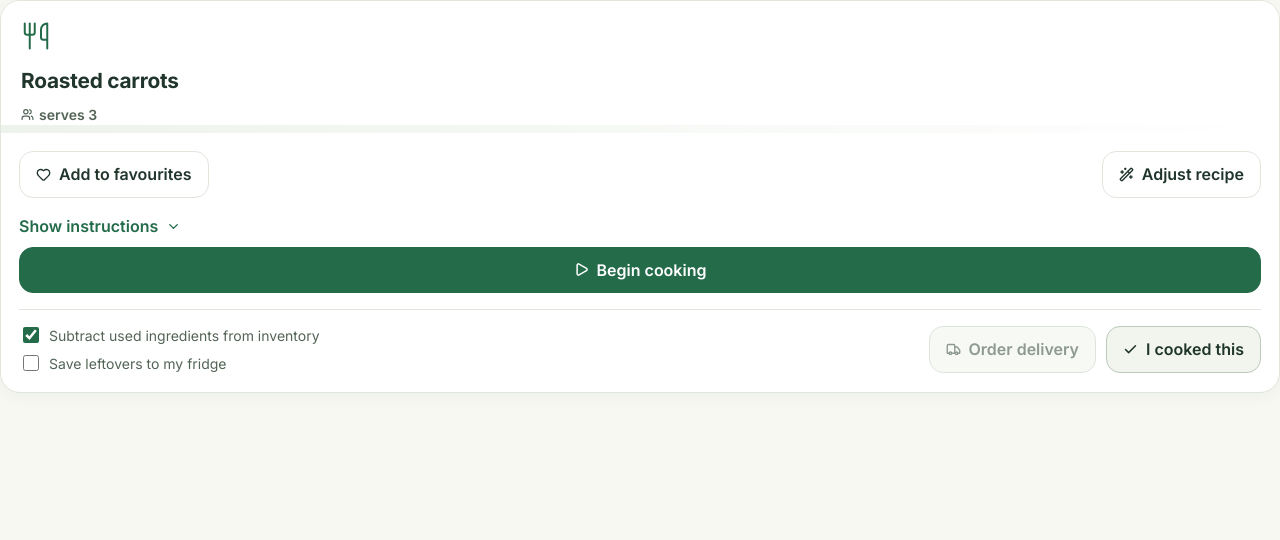
Test: includes safety reminders in expanded recipes and ignores old search photos
Click the button "Show instructions" at {"x": 100, "y": 226}, box [19,210,181,243]
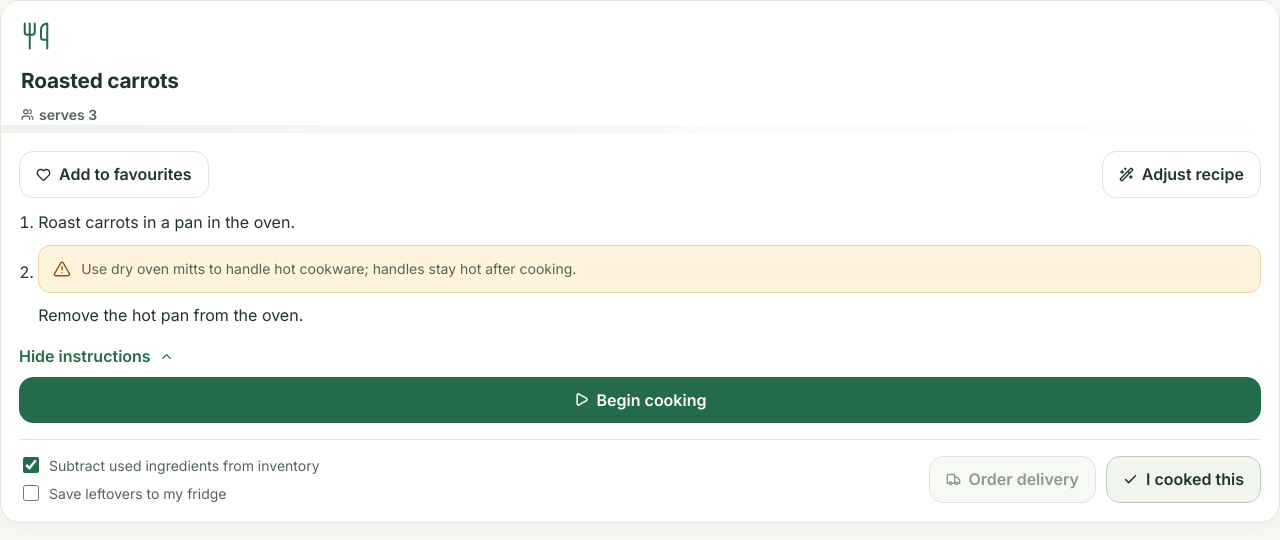
Check: the number of elements named "Cooking safety" is 1, box [38,245,1261,293]
